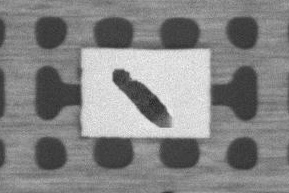DIE_INK: (159, 41, 264, 88)
